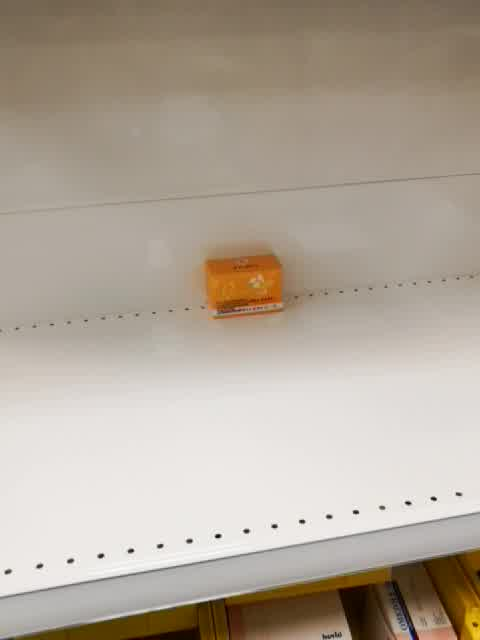jasminetea: (203, 253, 285, 320)
